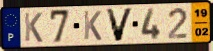2: (166, 7, 189, 41)
4: (140, 6, 163, 41)
7: (49, 9, 72, 46)
K: (82, 10, 103, 42), (23, 12, 44, 44)
V: (104, 7, 135, 43)
